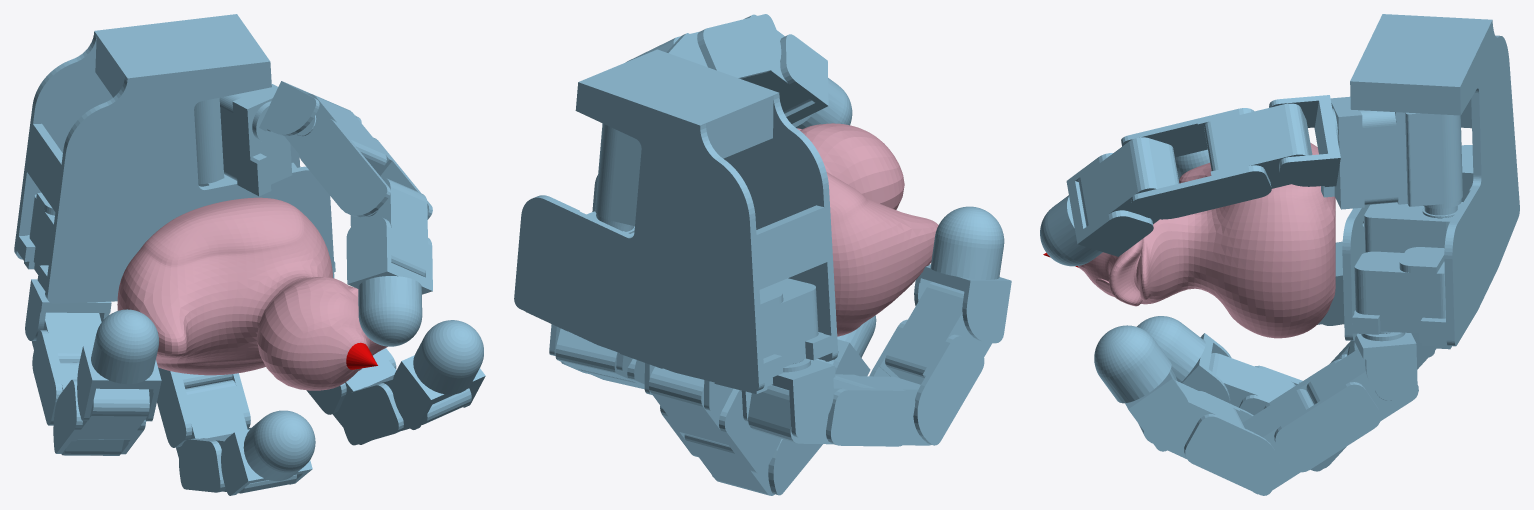
The picture shows the model from 3 angles, left to right: view 1: azimuth 30°, elevation 25°; view 2: azimuth 150°, elevation 25°; view 3: azimuth 270°, elevation 25°; orthographic projection. The views are drawn at different scales.
Parts seen in each view (by area): view 1: world, rubber_duck.stl; view 2: world, rubber_duck.stl; view 3: world, rubber_duck.stl.
Part boxes in pixels (x1,y1,x2,y2): world: (14,14,485,495); rubber_duck.stl: (117,197,387,390); world: (514,14,1011,495); rubber_duck.stl: (797,123,938,336); world: (1040,14,1519,495); rubber_duck.stl: (1078,143,1335,338).
Size of the model in its own units: 0.1567 by 0.1669 by 0.1738.
